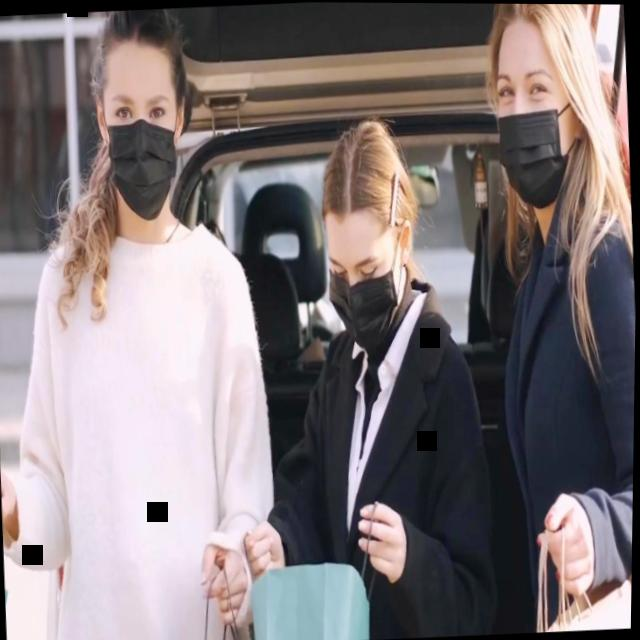Mask: (492, 42, 579, 213), (101, 48, 183, 222), (326, 220, 407, 356)
